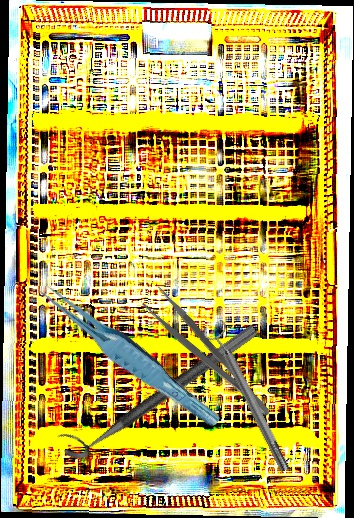Dressing Forceps: (139, 283, 275, 430)
Fixation Ring: (54, 308, 260, 466), (200, 318, 297, 477)
Tissue Forceps: (32, 265, 223, 442)
